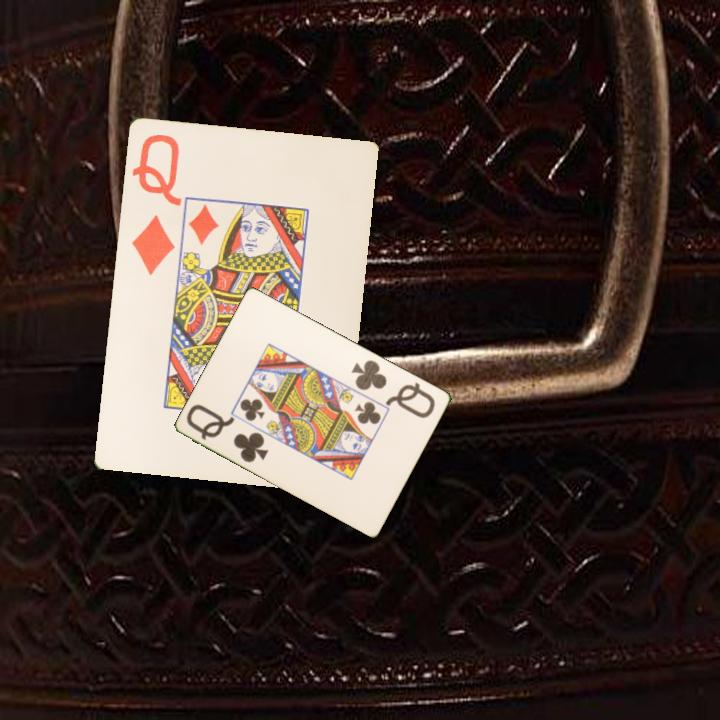Qc: (348, 356, 439, 421), (183, 400, 272, 466)
Qd: (127, 129, 183, 278)
